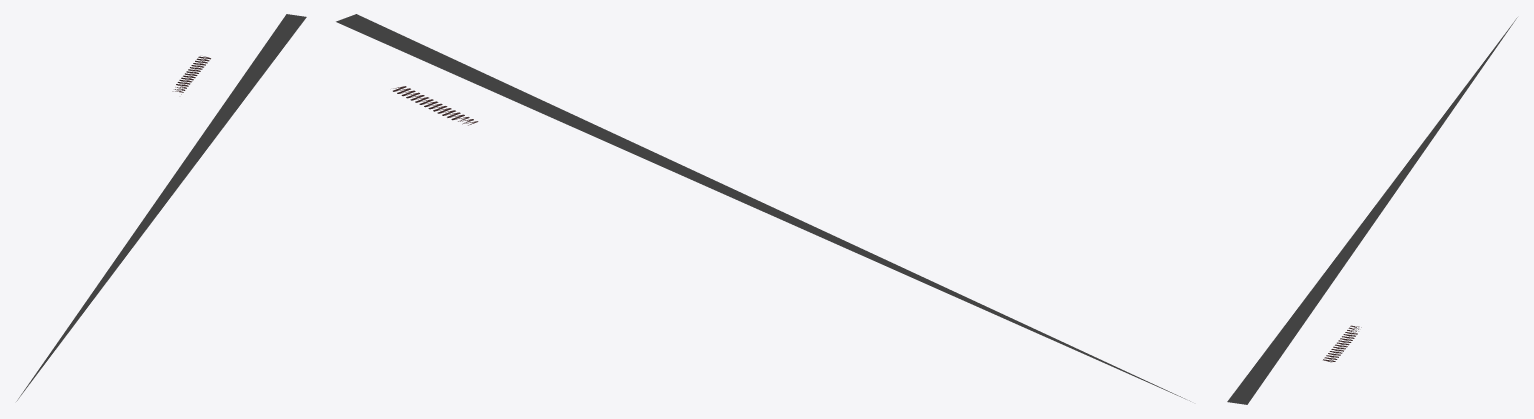
3 views of the same model, side by side, from view 1: azimuth 90°, elevation 25°; view 2: azimuth 150°, elevation 25°; view 3: azimuth 270°, elevation 25° (orthographic). The views are drawn at different scales.
Bounding box in the file's own units: 151 × 0.064 × 47.68.
